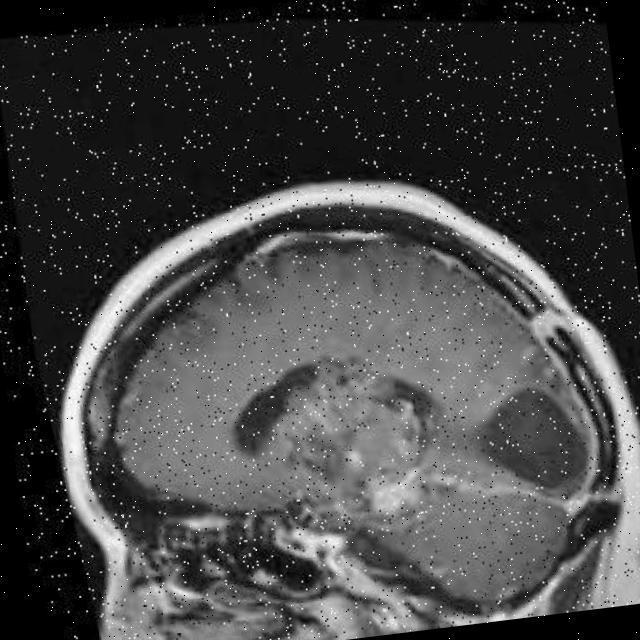EMCI: (438, 358, 614, 526)
